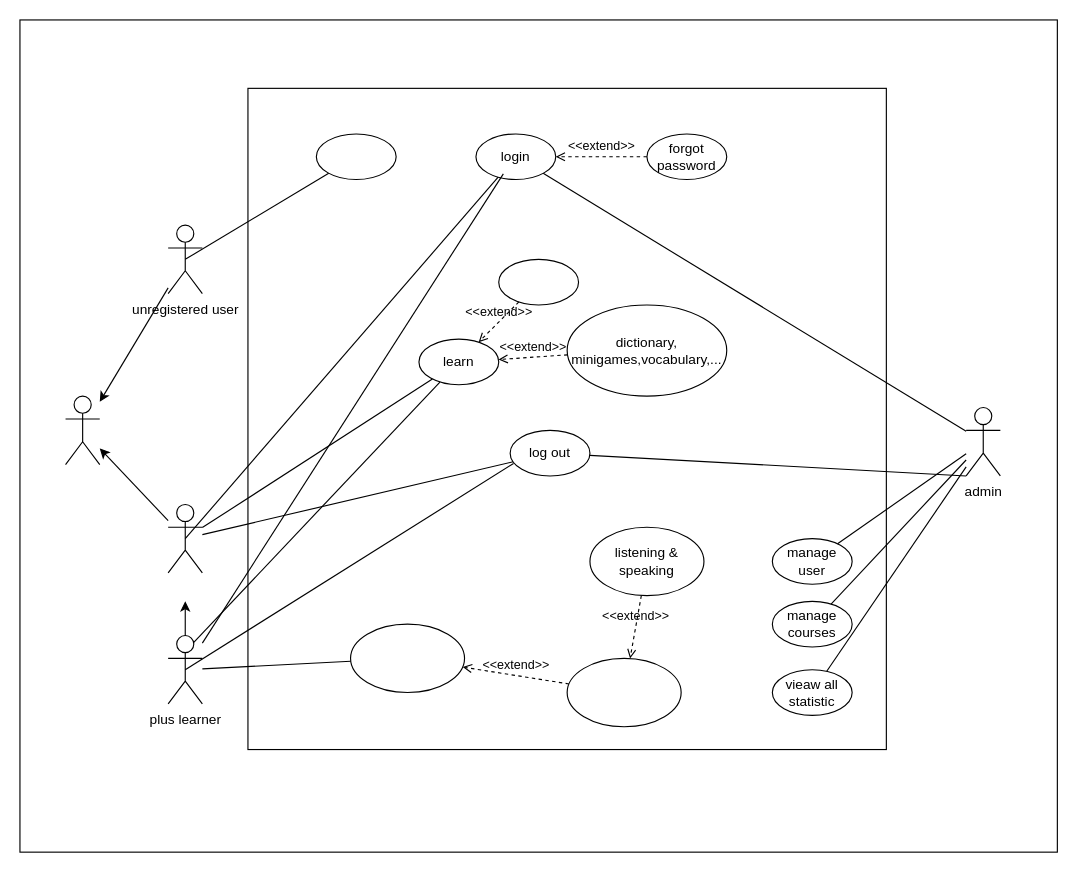
This 1077x872 diagram has some shape labels left out. Each missing label, with the centre of its shape:
creat payment request: [407,658]
learner: [184,538]
Plus Features: [623,692]
reading & wrting: [538,281]
register: [355,156]
user: [82,430]
